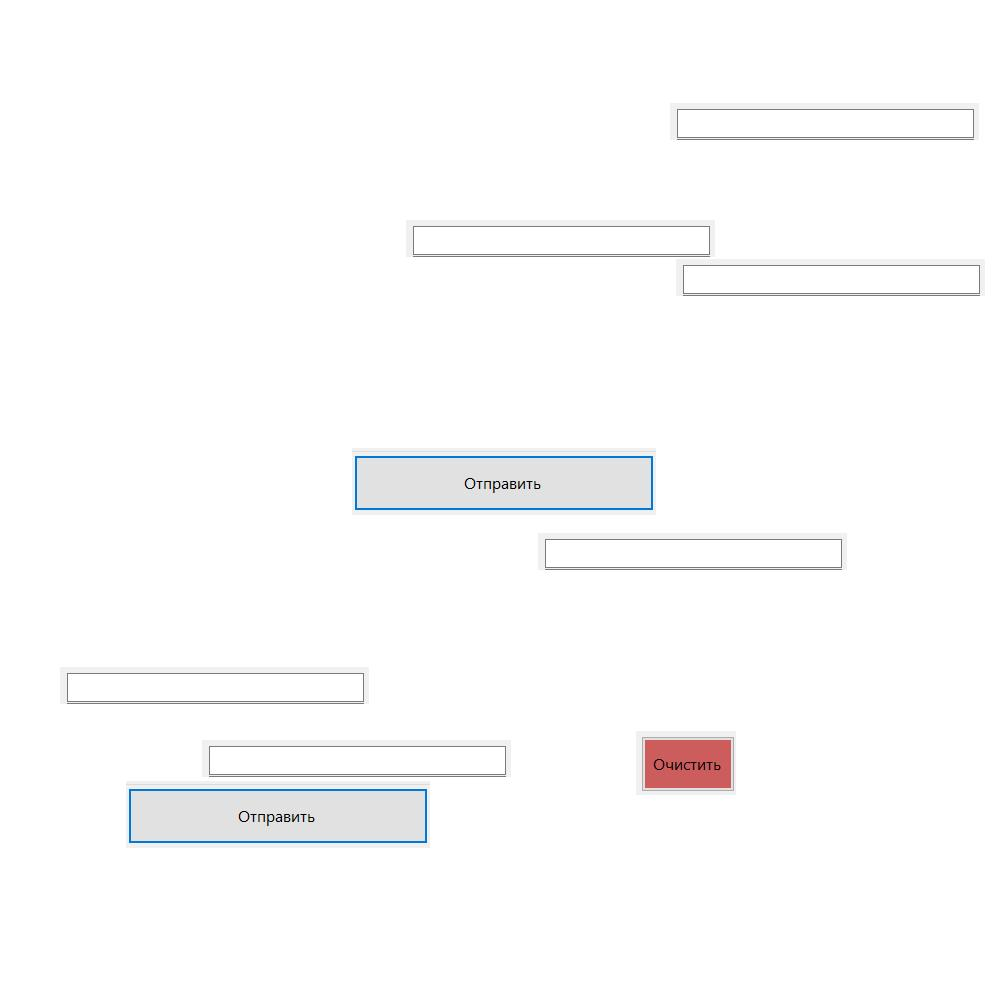Button: (352, 448, 656, 515), (126, 781, 430, 848), (636, 731, 736, 795)
EditText-: (538, 533, 847, 570), (60, 667, 369, 704), (670, 103, 979, 140), (406, 220, 715, 257), (676, 259, 985, 296), (202, 740, 511, 777)
